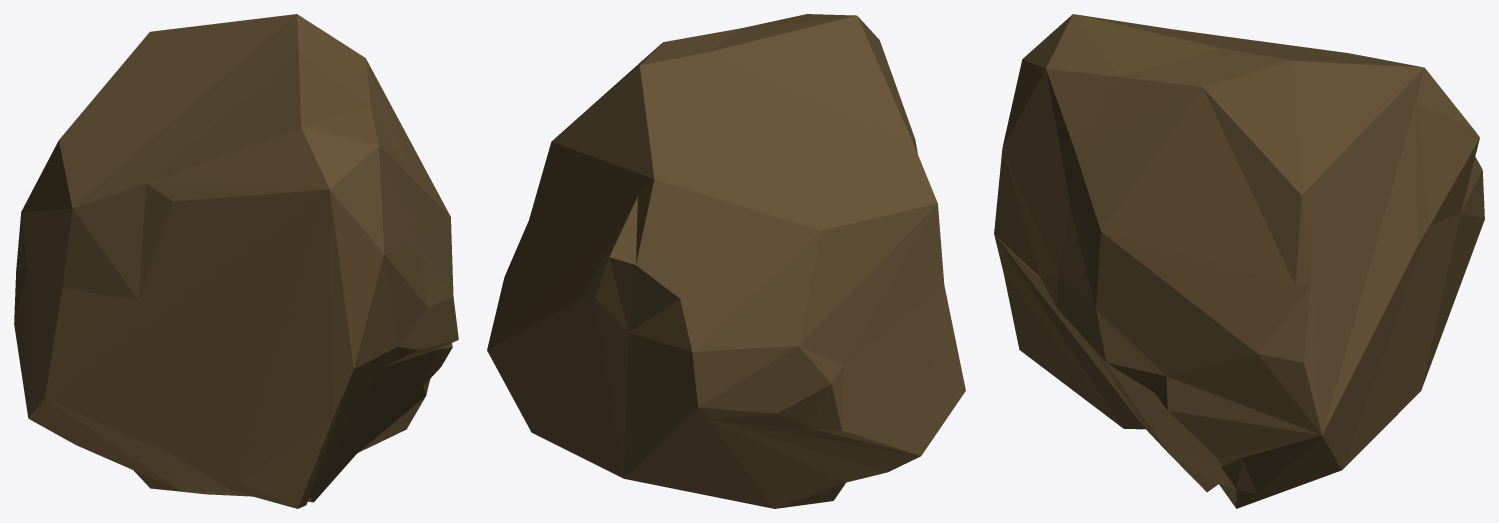
The model's file is low-poly_rock.glb.
3 views of the same model, side by side, from view 1: azimuth 30°, elevation 25°; view 2: azimuth 150°, elevation 25°; view 3: azimuth 270°, elevation 25° (orthographic).
Visible parts, largest first — view 1: rock_01; view 2: rock_01; view 3: rock_01.
Boxes of the visible parts, x1,y1,x2,y2 form: rock_01: [14, 14, 458, 508]; rock_01: [487, 14, 965, 508]; rock_01: [994, 14, 1484, 508].
Bounding box in the file's own units: 125 × 125 × 125.
